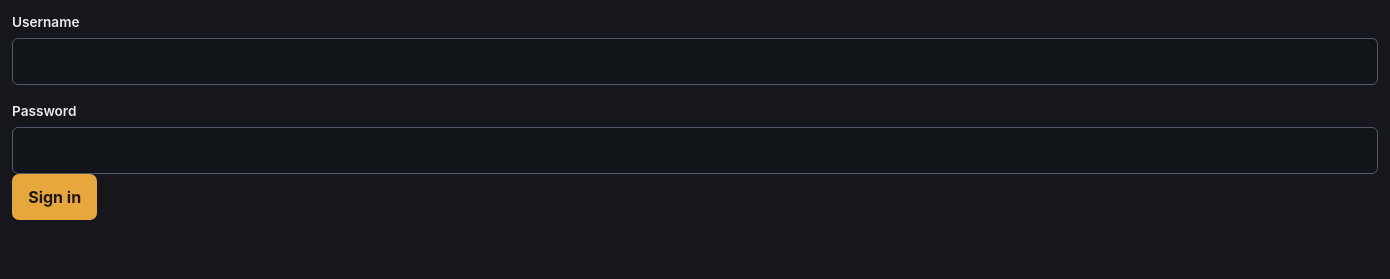
login form in Chromium › shows an operational error without claiming the credentials were wrong
screen exposes the retryable form after the request settles.
Step 1. Type "alice" into the field labelled "Username" → x=695, y=61, box [12,38,1378,85]
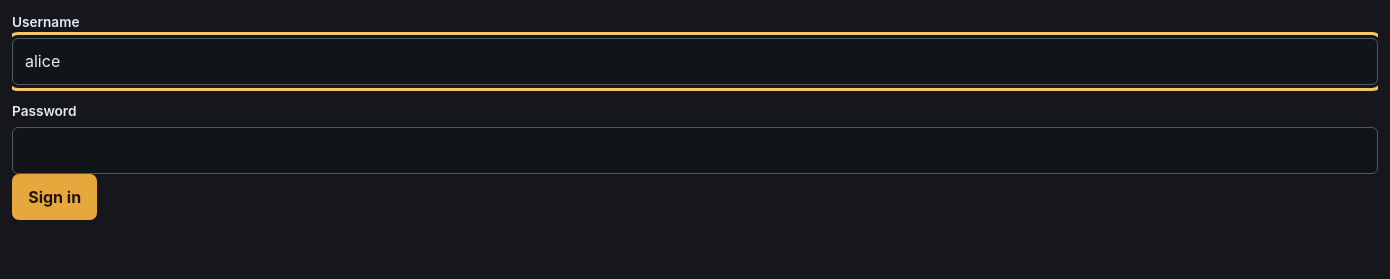
Step 2. Type "some password" into the password field labelled "Password" → x=695, y=150, box [12,127,1378,174]
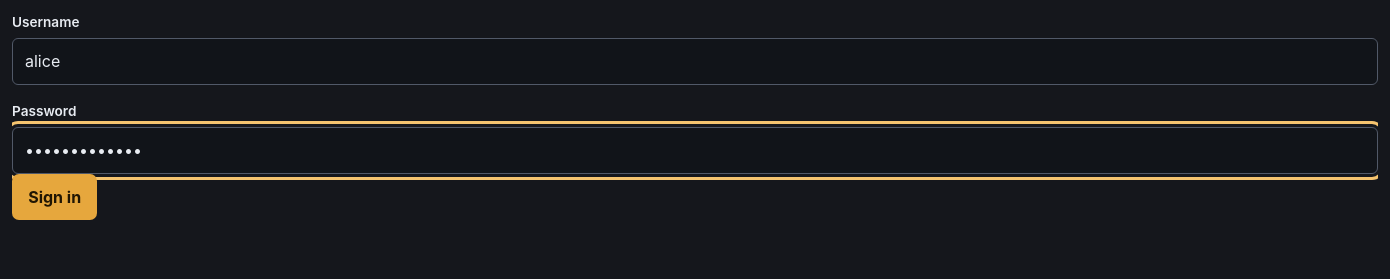
Step 3. Click the button "Sign in" → x=55, y=197, box [12,174,97,220]
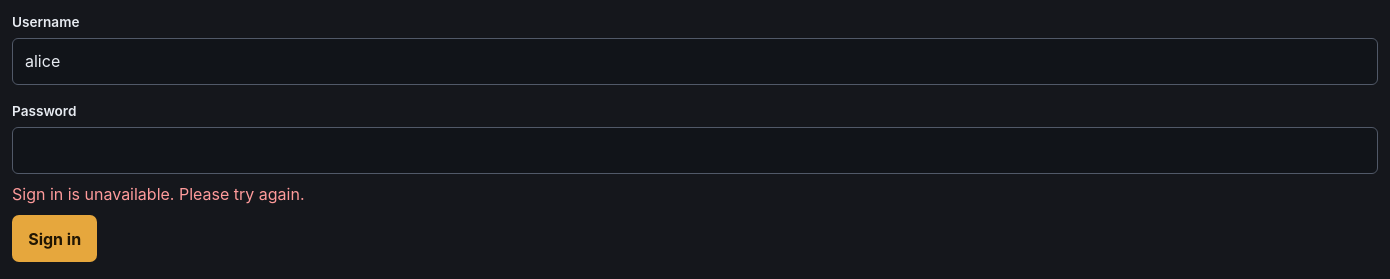
Now the message reads "Sign in is unavailable. Please try again.", box [12,184,304,204]
Now the password field labelled "Password" is empty, box [12,127,1378,174]
